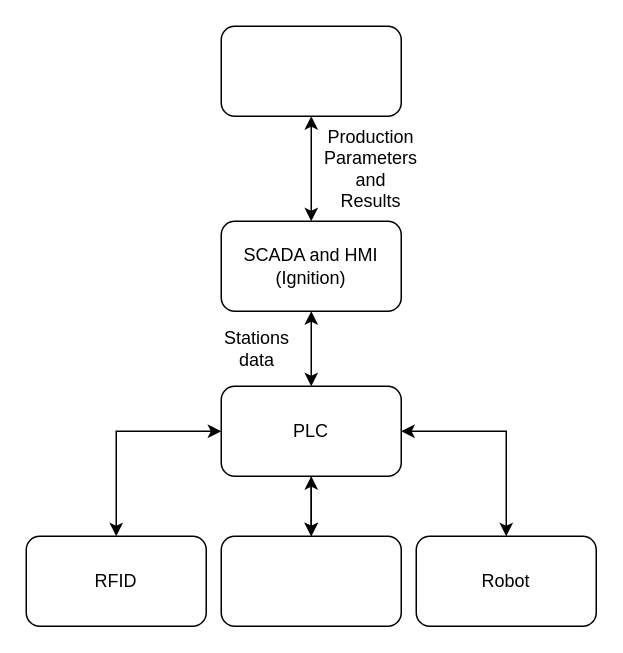
This 623x653 diagram has some shape labels left out. Here are the shapes that lost their labels. From the top down, the centre of each, then its label:
the point at 310,70: MES (OpCenter)
the point at 310,580: Station Devices
